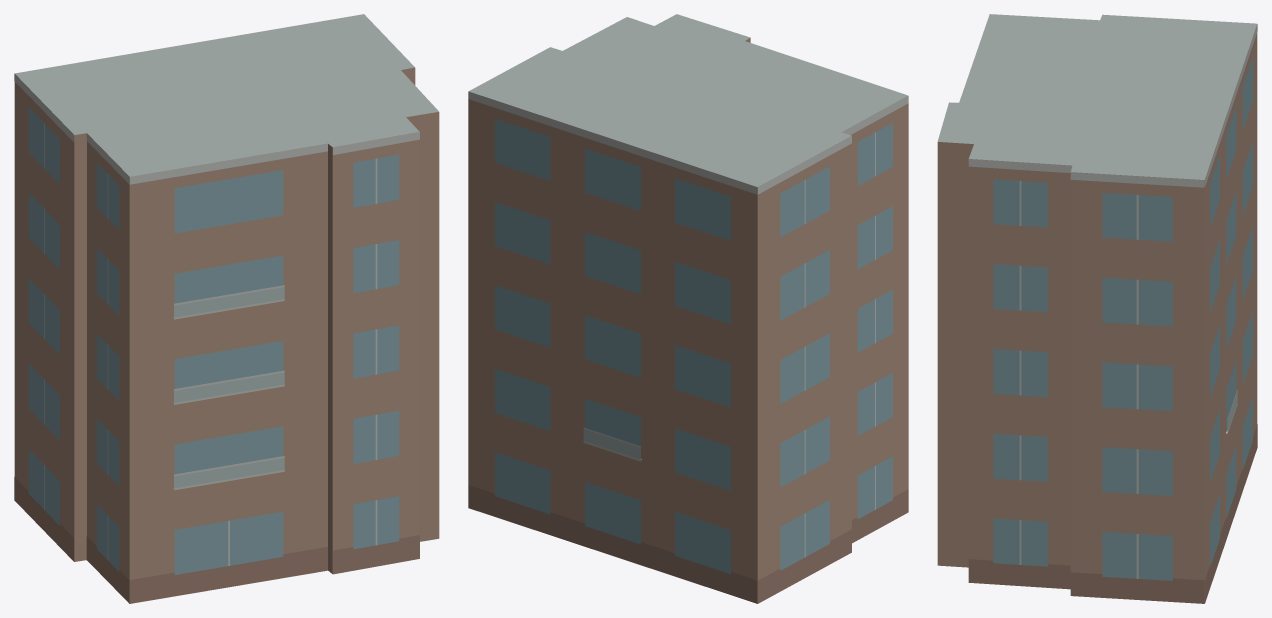
Rendered from survey-upis-32654989.glb.
The picture shows the model from 3 angles, left to right: view 1: azimuth 30°, elevation 25°; view 2: azimuth 150°, elevation 25°; view 3: azimuth 270°, elevation 25°; orthographic projection. The views are drawn at different scales.
Parts seen in each view (by area): view 1: survey-upis-32654989.tmp; view 2: survey-upis-32654989.tmp; view 3: survey-upis-32654989.tmp.
Part boxes in pixels (box(x1,y1,x2,y2)): survey-upis-32654989.tmp: box(14, 14, 439, 603); survey-upis-32654989.tmp: box(468, 14, 908, 603); survey-upis-32654989.tmp: box(937, 14, 1257, 603).
Size of the model in its own units: 11.27 by 13.4 by 9.18.
